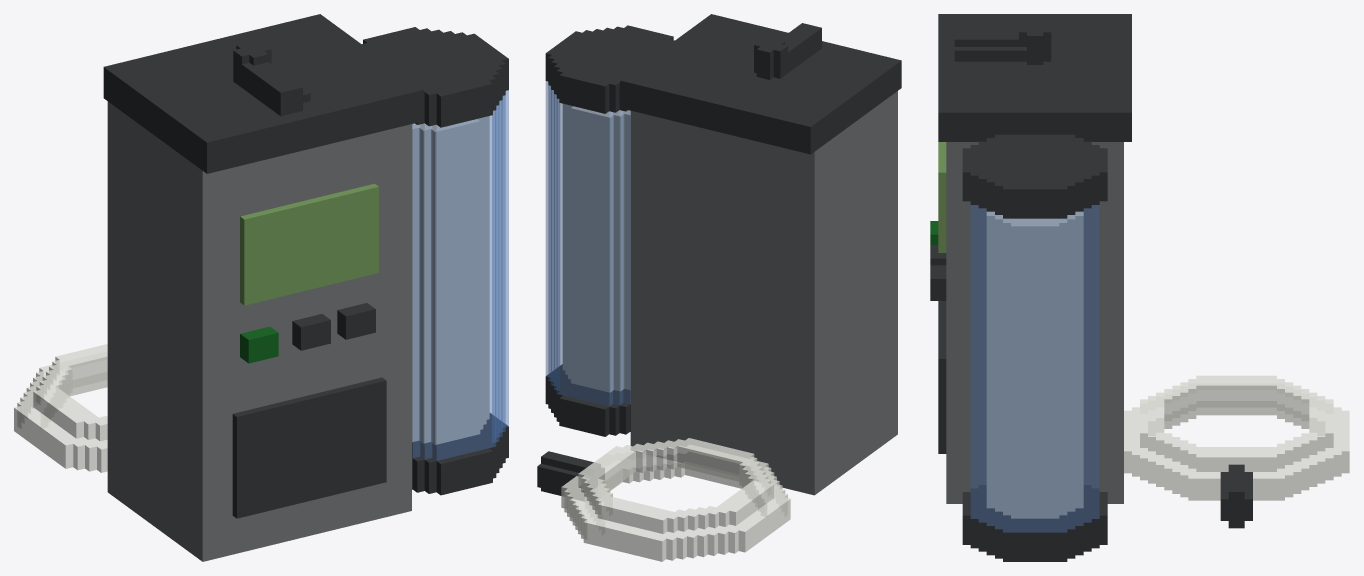
File: water_purifier.glb
3 renders of one model, left to right at view 1: azimuth 30°, elevation 25°; view 2: azimuth 150°, elevation 25°; view 3: azimuth 270°, elevation 25°, orthographic. The views are drawn at different scales.
Visible parts, largest first — view 1: water_purifier:compound; view 2: water_purifier:compound; view 3: water_purifier:compound.
Boxes of the visible parts, box(x1,y1,x2,y2) form: water_purifier:compound: box(14, 14, 508, 561); water_purifier:compound: box(537, 14, 901, 561); water_purifier:compound: box(930, 14, 1349, 561).
Size of the model in its own units: 0.184 by 0.236 by 0.208.
